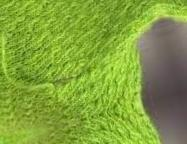snag: (1, 31, 57, 94)
